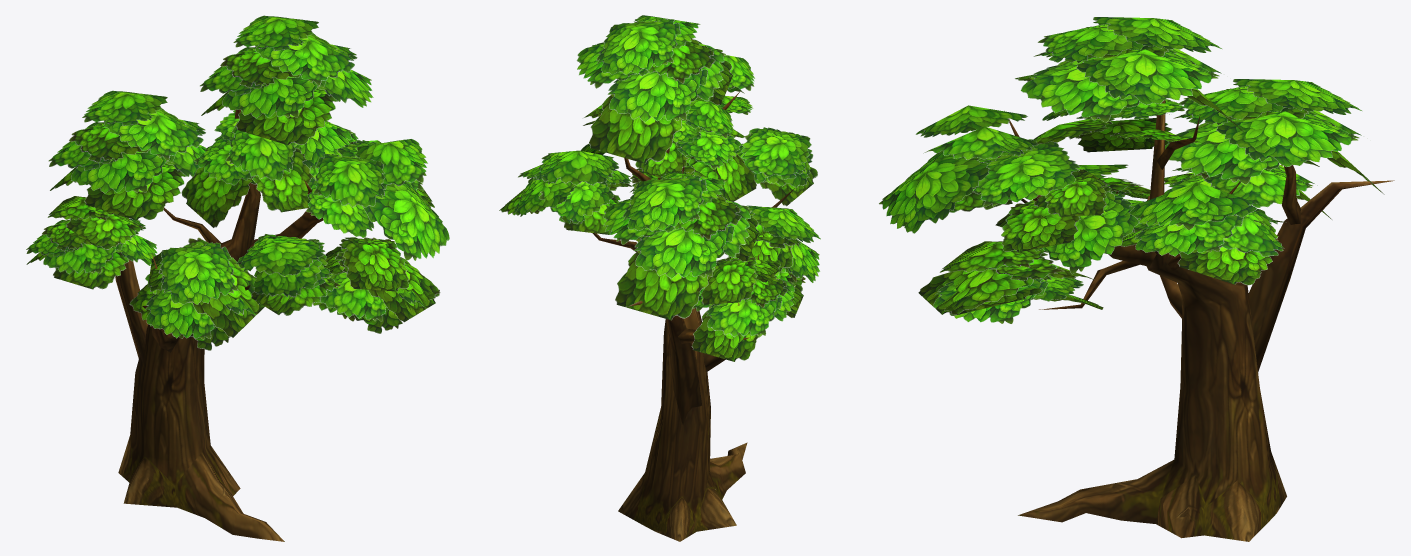
The model's file is arbol_03_prop.fbx.
The picture shows the model from 3 angles, left to right: view 1: azimuth 30°, elevation 25°; view 2: azimuth 150°, elevation 25°; view 3: azimuth 270°, elevation 25°; orthographic projection. The views are drawn at different scales.
Visible parts, largest first — view 1: polySurface1; view 2: polySurface1; view 3: polySurface1.
Boxes of the visible parts, x1,y1,x2,y2 form: polySurface1: (26,15,449,541); polySurface1: (499,15,820,541); polySurface1: (879,17,1394,541).
Size of the model in its own units: 6.98 by 10.08 by 9.1.
